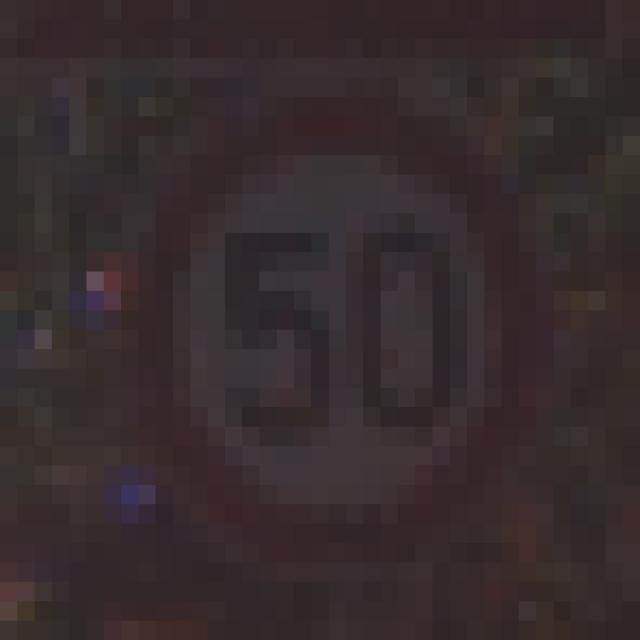Ograniczenie predkosci do 50: (123, 94, 538, 552)
